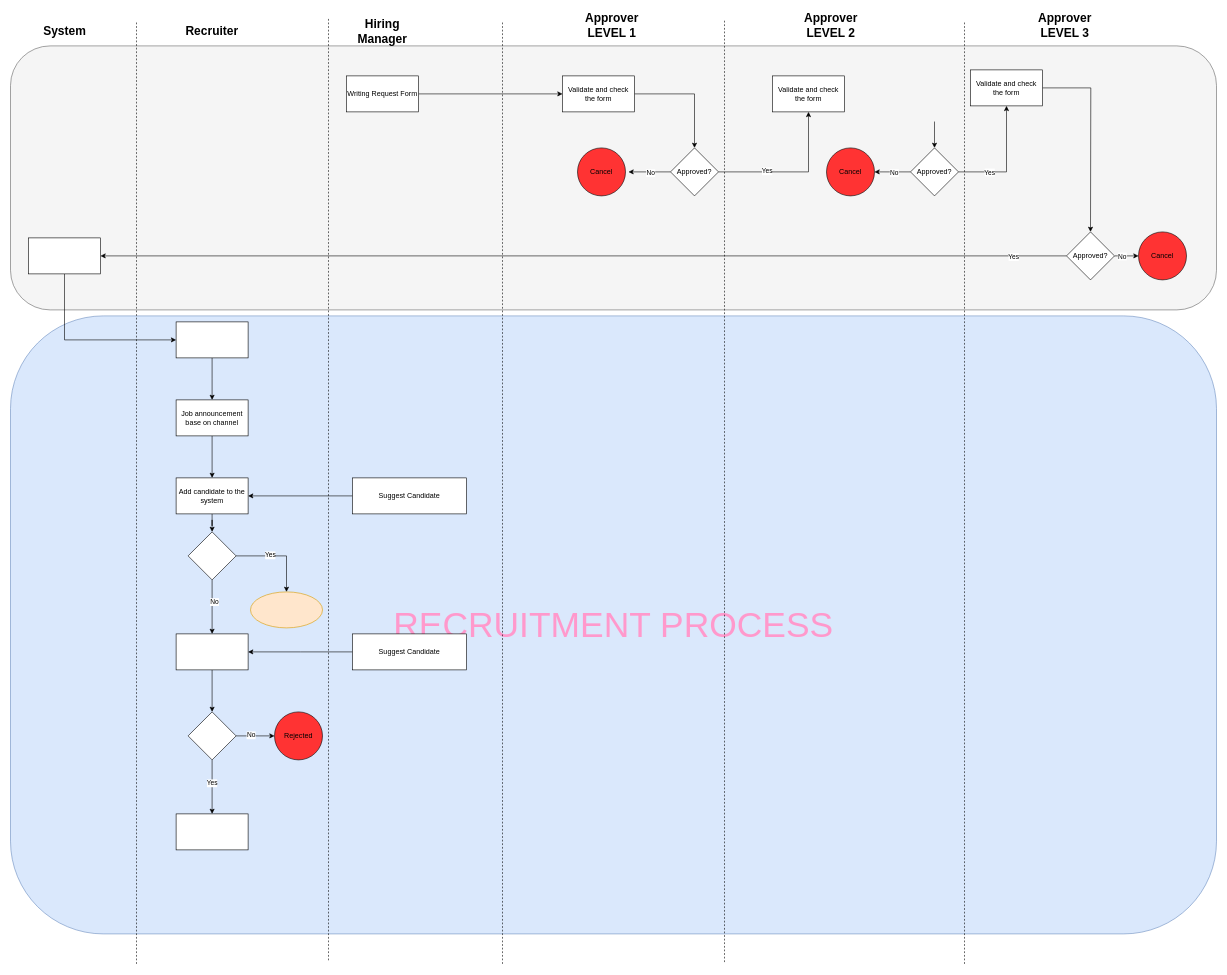
This 1227x975 diagram has some shape labels left out. Here are the shapes that lost their labels. From the top down, the box of each, then its label:
(10, 45, 1216, 310): REQUEST FORM PROCESS
(28, 237, 100, 274): Auto Assign base on the information of request
(176, 321, 248, 358): Start Recruitment process
(188, 531, 236, 580): Paused?
(250, 591, 322, 628): Recruit temporary stop
(176, 633, 248, 670): Interview candidate
(188, 711, 236, 760): passed?
(176, 813, 248, 850): Onboard
